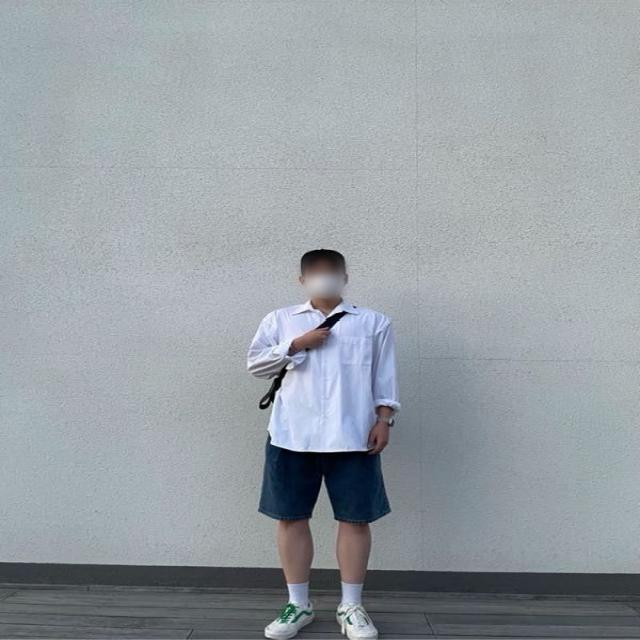shirt: (248, 301, 400, 457)
shortpants: (257, 442, 391, 526)
